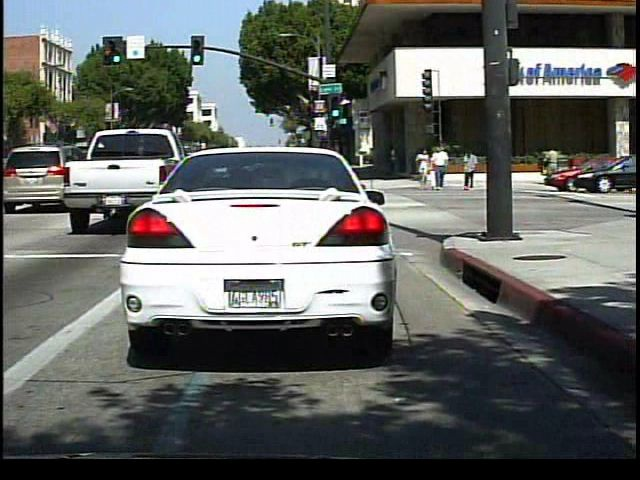person: (431, 142, 451, 190), (460, 144, 480, 191), (415, 144, 433, 192), (541, 142, 562, 183)
